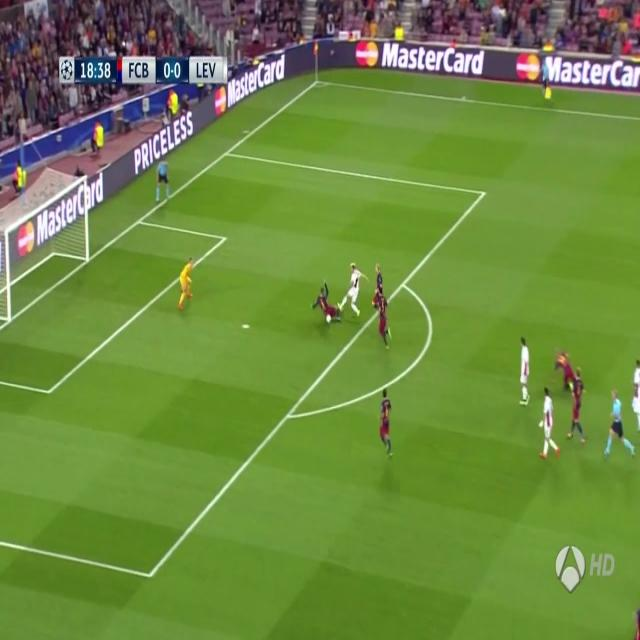Ball: (325, 312, 333, 327)
Goalkeeper: (176, 253, 196, 314)
Player: (538, 388, 564, 462), (336, 260, 369, 316), (567, 367, 589, 446), (310, 279, 342, 321), (374, 285, 394, 351), (378, 388, 396, 459), (518, 336, 534, 407), (553, 346, 575, 388), (629, 356, 640, 436), (371, 261, 387, 311)
Referee: (602, 387, 638, 457), (152, 154, 172, 210)
